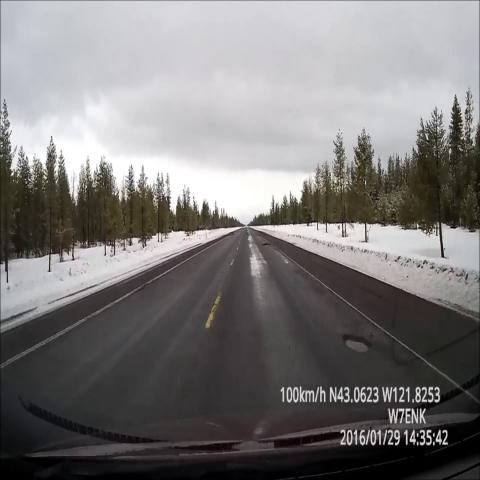pothole: (334, 323, 376, 366), (258, 236, 276, 257)
